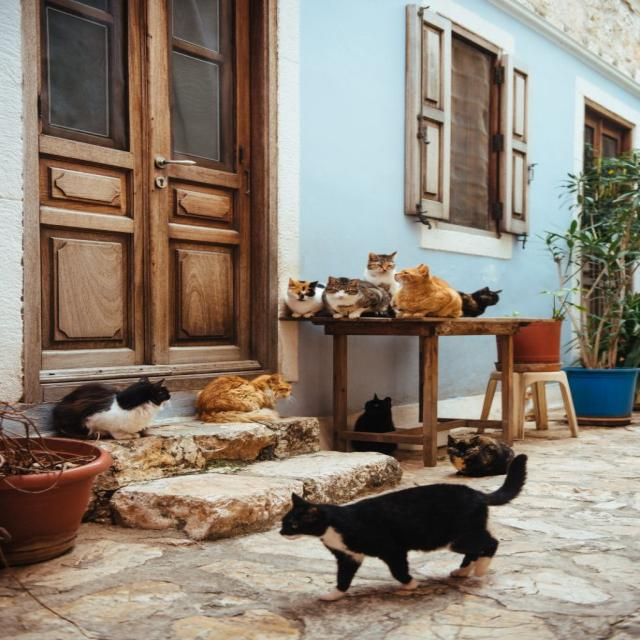cat: (281, 454, 528, 601), (54, 376, 170, 440), (195, 374, 292, 422), (393, 264, 462, 317), (447, 435, 515, 477), (324, 276, 389, 319), (284, 278, 324, 318), (354, 394, 395, 432), (365, 252, 399, 296), (458, 288, 501, 318), (352, 442, 397, 453)
